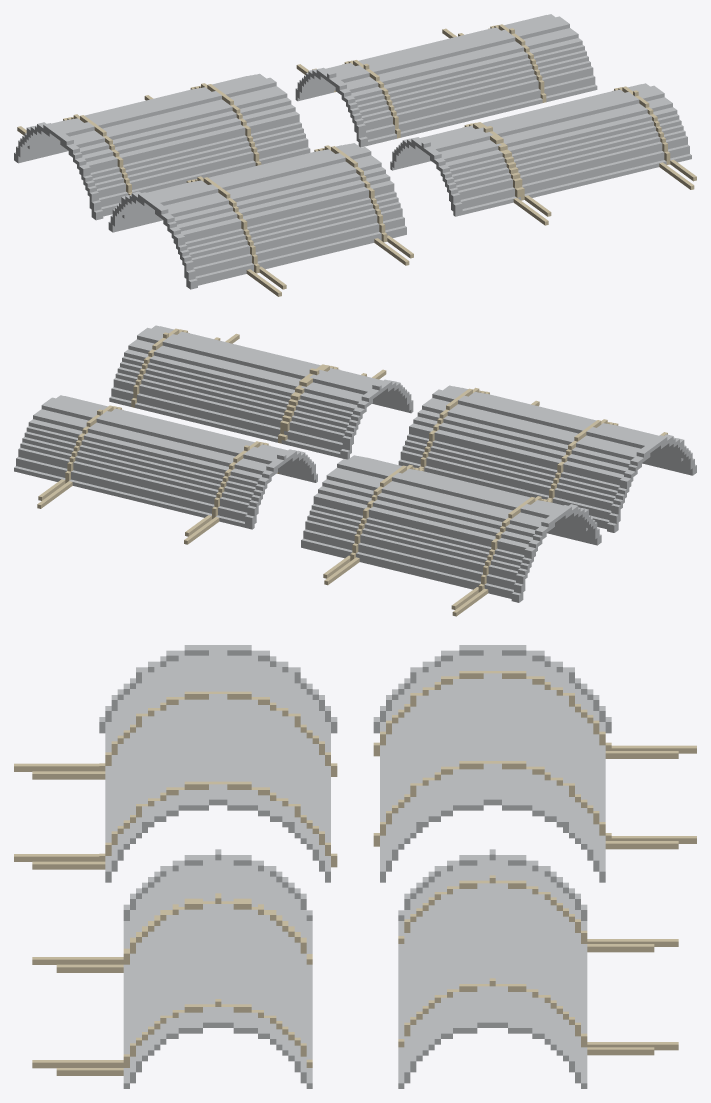
Rendered from leg_guards_sheet_metal.glb.
3 renders of one model, top to bottom at view 1: azimuth 30°, elevation 25°; view 2: azimuth 150°, elevation 25°; view 3: azimuth 270°, elevation 25°, orthographic. The views are drawn at different scales.
Visible parts, largest first — view 1: leg_guards_sheet_metal:compound; view 2: leg_guards_sheet_metal:compound; view 3: leg_guards_sheet_metal:compound.
Boxes of the visible parts, <box> form: leg_guards_sheet_metal:compound: <box>14,14,696,296</box>; leg_guards_sheet_metal:compound: <box>14,325,696,616</box>; leg_guards_sheet_metal:compound: <box>14,645,696,1088</box>.
Size of the model in its own units: 0.56 by 0.06 by 0.448.
